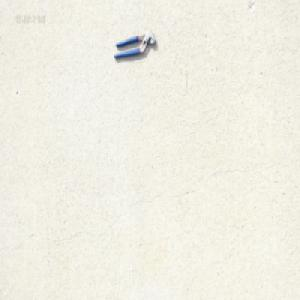Pliers: (112, 30, 156, 60)
